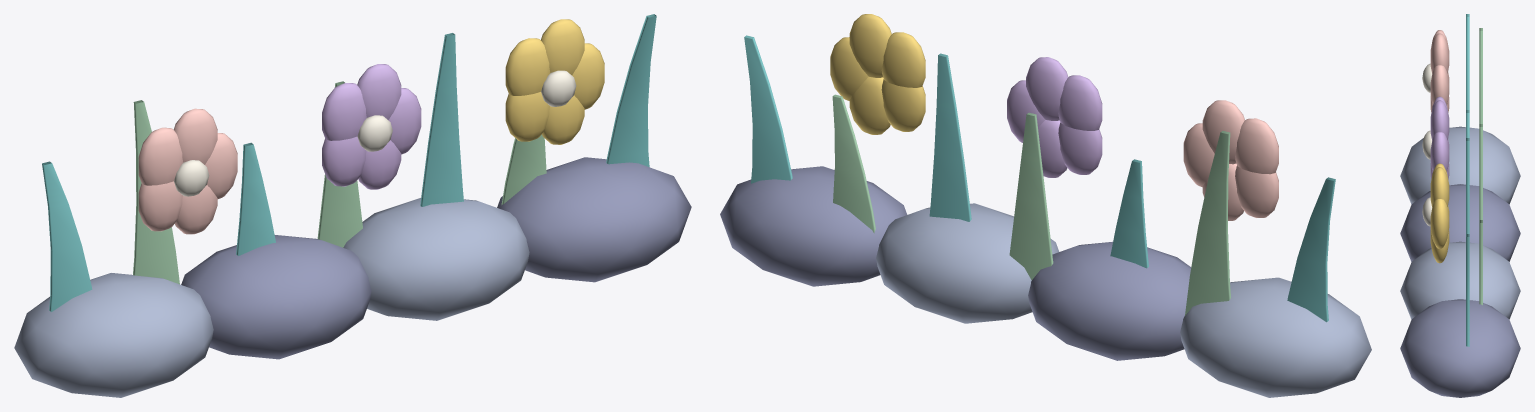
Rendered from fairy_bank_1.glb.
3 renders of one model, left to right at view 1: azimuth 30°, elevation 25°; view 2: azimuth 150°, elevation 25°; view 3: azimuth 270°, elevation 25°, orthographic. The views are drawn at different scales.
Visible parts, largest first — view 1: BankStone_0.001, BankStone_3.001, BankStone_1.001, BankStone_2.001, BankLeaf_4.001, BankLeaf_6.001, BankLeaf_0.001, BankLeaf_1.001, BankLeaf_2.001, BankLeaf_3.001, BankFlower_0_2.001, BankFlower_2_2.001 (+17 smaller); view 2: BankStone_0.001, BankStone_1.001, BankStone_3.001, BankStone_2.001, BankLeaf_1.001, BankLeaf_3.001, BankLeaf_4.001, BankLeaf_6.001, BankLeaf_0.001, BankLeaf_5.001, BankLeaf_2.001, BankFlower_1_2.001 (+14 smaller); view 3: BankStone_3.001, BankStone_2.001, BankStone_0.001, BankStone_1.001, BankFlower_2_0.001, BankFlower_1_0.001, BankFlower_0_0.001, BankFlower_1_1.001, BankFlower_0_1.001, BankFlower_2_1.001, BankLeaf_6.001, BankLeaf_0.001 (+8 smaller).
Boxes of the visible parts, x1=… form: BankStone_0.001: x1=14, y1=273, x2=213, y2=397; BankStone_3.001: x1=497, y1=157, x2=691, y2=282; BankStone_1.001: x1=181, y1=235, x2=371, y2=359; BankStone_2.001: x1=343, y1=198, x2=529, y2=320; BankLeaf_4.001: x1=420, y1=33, x2=463, y2=206; BankLeaf_6.001: x1=606, y1=14, x2=656, y2=167; BankLeaf_0.001: x1=42, y1=161, x2=92, y2=311; BankLeaf_1.001: x1=133, y1=100, x2=179, y2=284; BankLeaf_2.001: x1=236, y1=142, x2=275, y2=255; BankLeaf_3.001: x1=317, y1=81, x2=362, y2=247; BankFlower_0_2.001: x1=138, y1=127, x2=183, y2=185; BankFlower_2_2.001: x1=505, y1=38, x2=550, y2=95; BankStone_0.001: x1=1180, y1=277, x2=1371, y2=397; BankStone_1.001: x1=1028, y1=241, x2=1191, y2=360; BankStone_3.001: x1=720, y1=166, x2=907, y2=286; BankStone_2.001: x1=876, y1=203, x2=1059, y2=323; BankLeaf_1.001: x1=1185, y1=131, x2=1230, y2=315; BankLeaf_3.001: x1=1009, y1=112, x2=1053, y2=280; BankLeaf_4.001: x1=929, y1=53, x2=971, y2=221; BankLeaf_6.001: x1=744, y1=35, x2=792, y2=183; BankLeaf_0.001: x1=1287, y1=177, x2=1335, y2=322; BankLeaf_5.001: x1=832, y1=94, x2=875, y2=233; BankLeaf_2.001: x1=1110, y1=159, x2=1148, y2=268; BankFlower_1_2.001: x1=1058, y1=75, x2=1102, y2=130; BankStone_3.001: x1=1400, y1=299, x2=1520, y2=397; BankStone_2.001: x1=1400, y1=241, x2=1520, y2=319; BankStone_0.001: x1=1400, y1=126, x2=1520, y2=204; BankStone_1.001: x1=1400, y1=184, x2=1520, y2=261; BankFlower_2_0.001: x1=1430, y1=199, x2=1449, y2=248; BankFlower_1_0.001: x1=1430, y1=132, x2=1449, y2=172; BankFlower_0_0.001: x1=1430, y1=65, x2=1449, y2=105; BankFlower_1_1.001: x1=1430, y1=100, x2=1449, y2=140; BankFlower_0_1.001: x1=1430, y1=33, x2=1449, y2=73; BankFlower_2_1.001: x1=1430, y1=167, x2=1449, y2=206; BankLeaf_6.001: x1=1466, y1=234, x2=1469, y2=346; BankLeaf_0.001: x1=1466, y1=14, x2=1469, y2=109.
Bounding box in the file's own units: 7.64 × 3.05 × 1.64.
